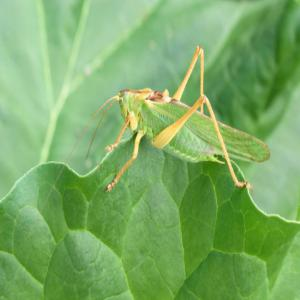locust: (86, 36, 273, 219)
